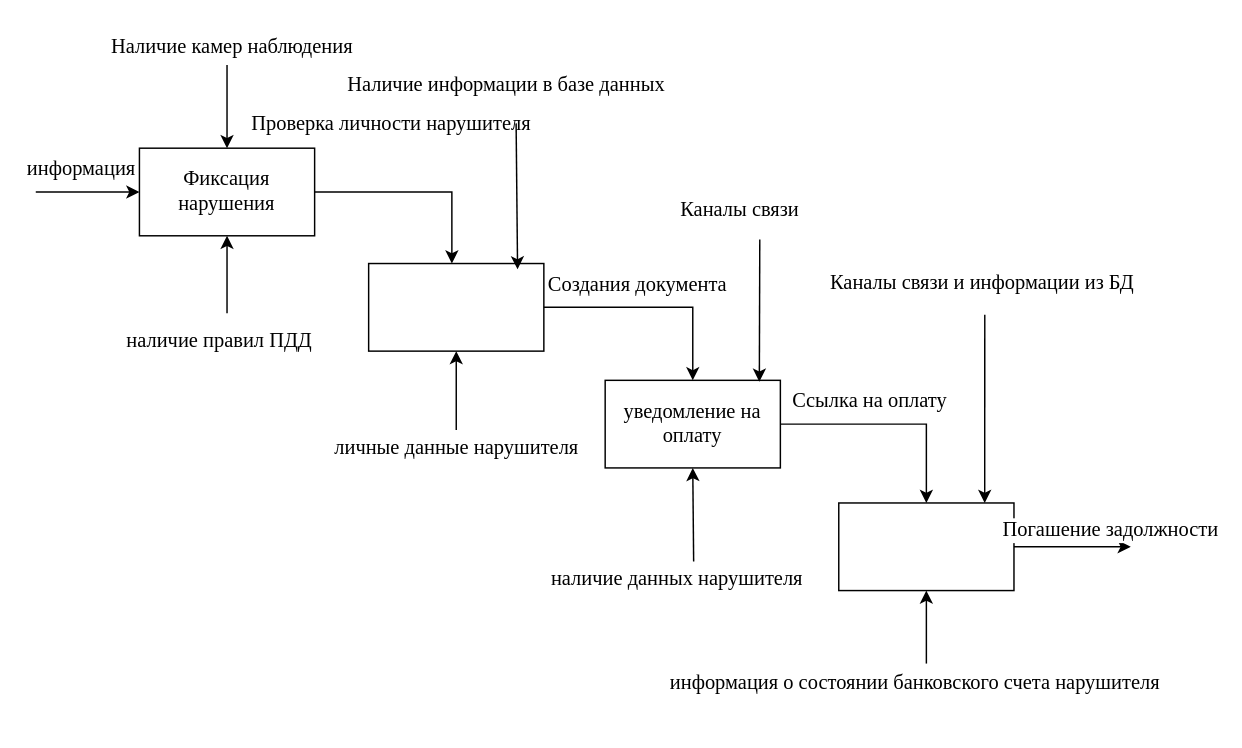
The diagram is 1242 pixels wide and 748 high, and some of its shapes have lost their labels. The shapes that lost their labels are listed below. From the top down, each one's box as (x1, y1, x2, y2) in pixels, then its label:
(367, 262, 544, 351): Установка личности нарушителя
(837, 502, 1014, 591): Взыскание денежных средств за нарушение
